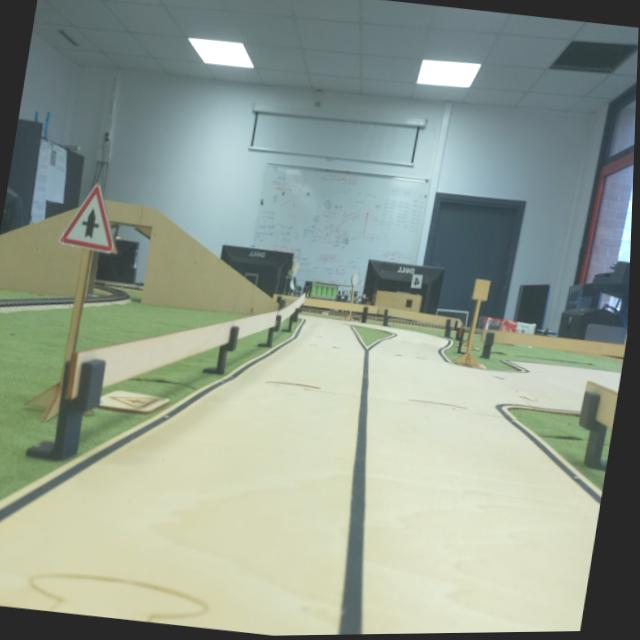panneau_intersection: (52, 176, 127, 268)
